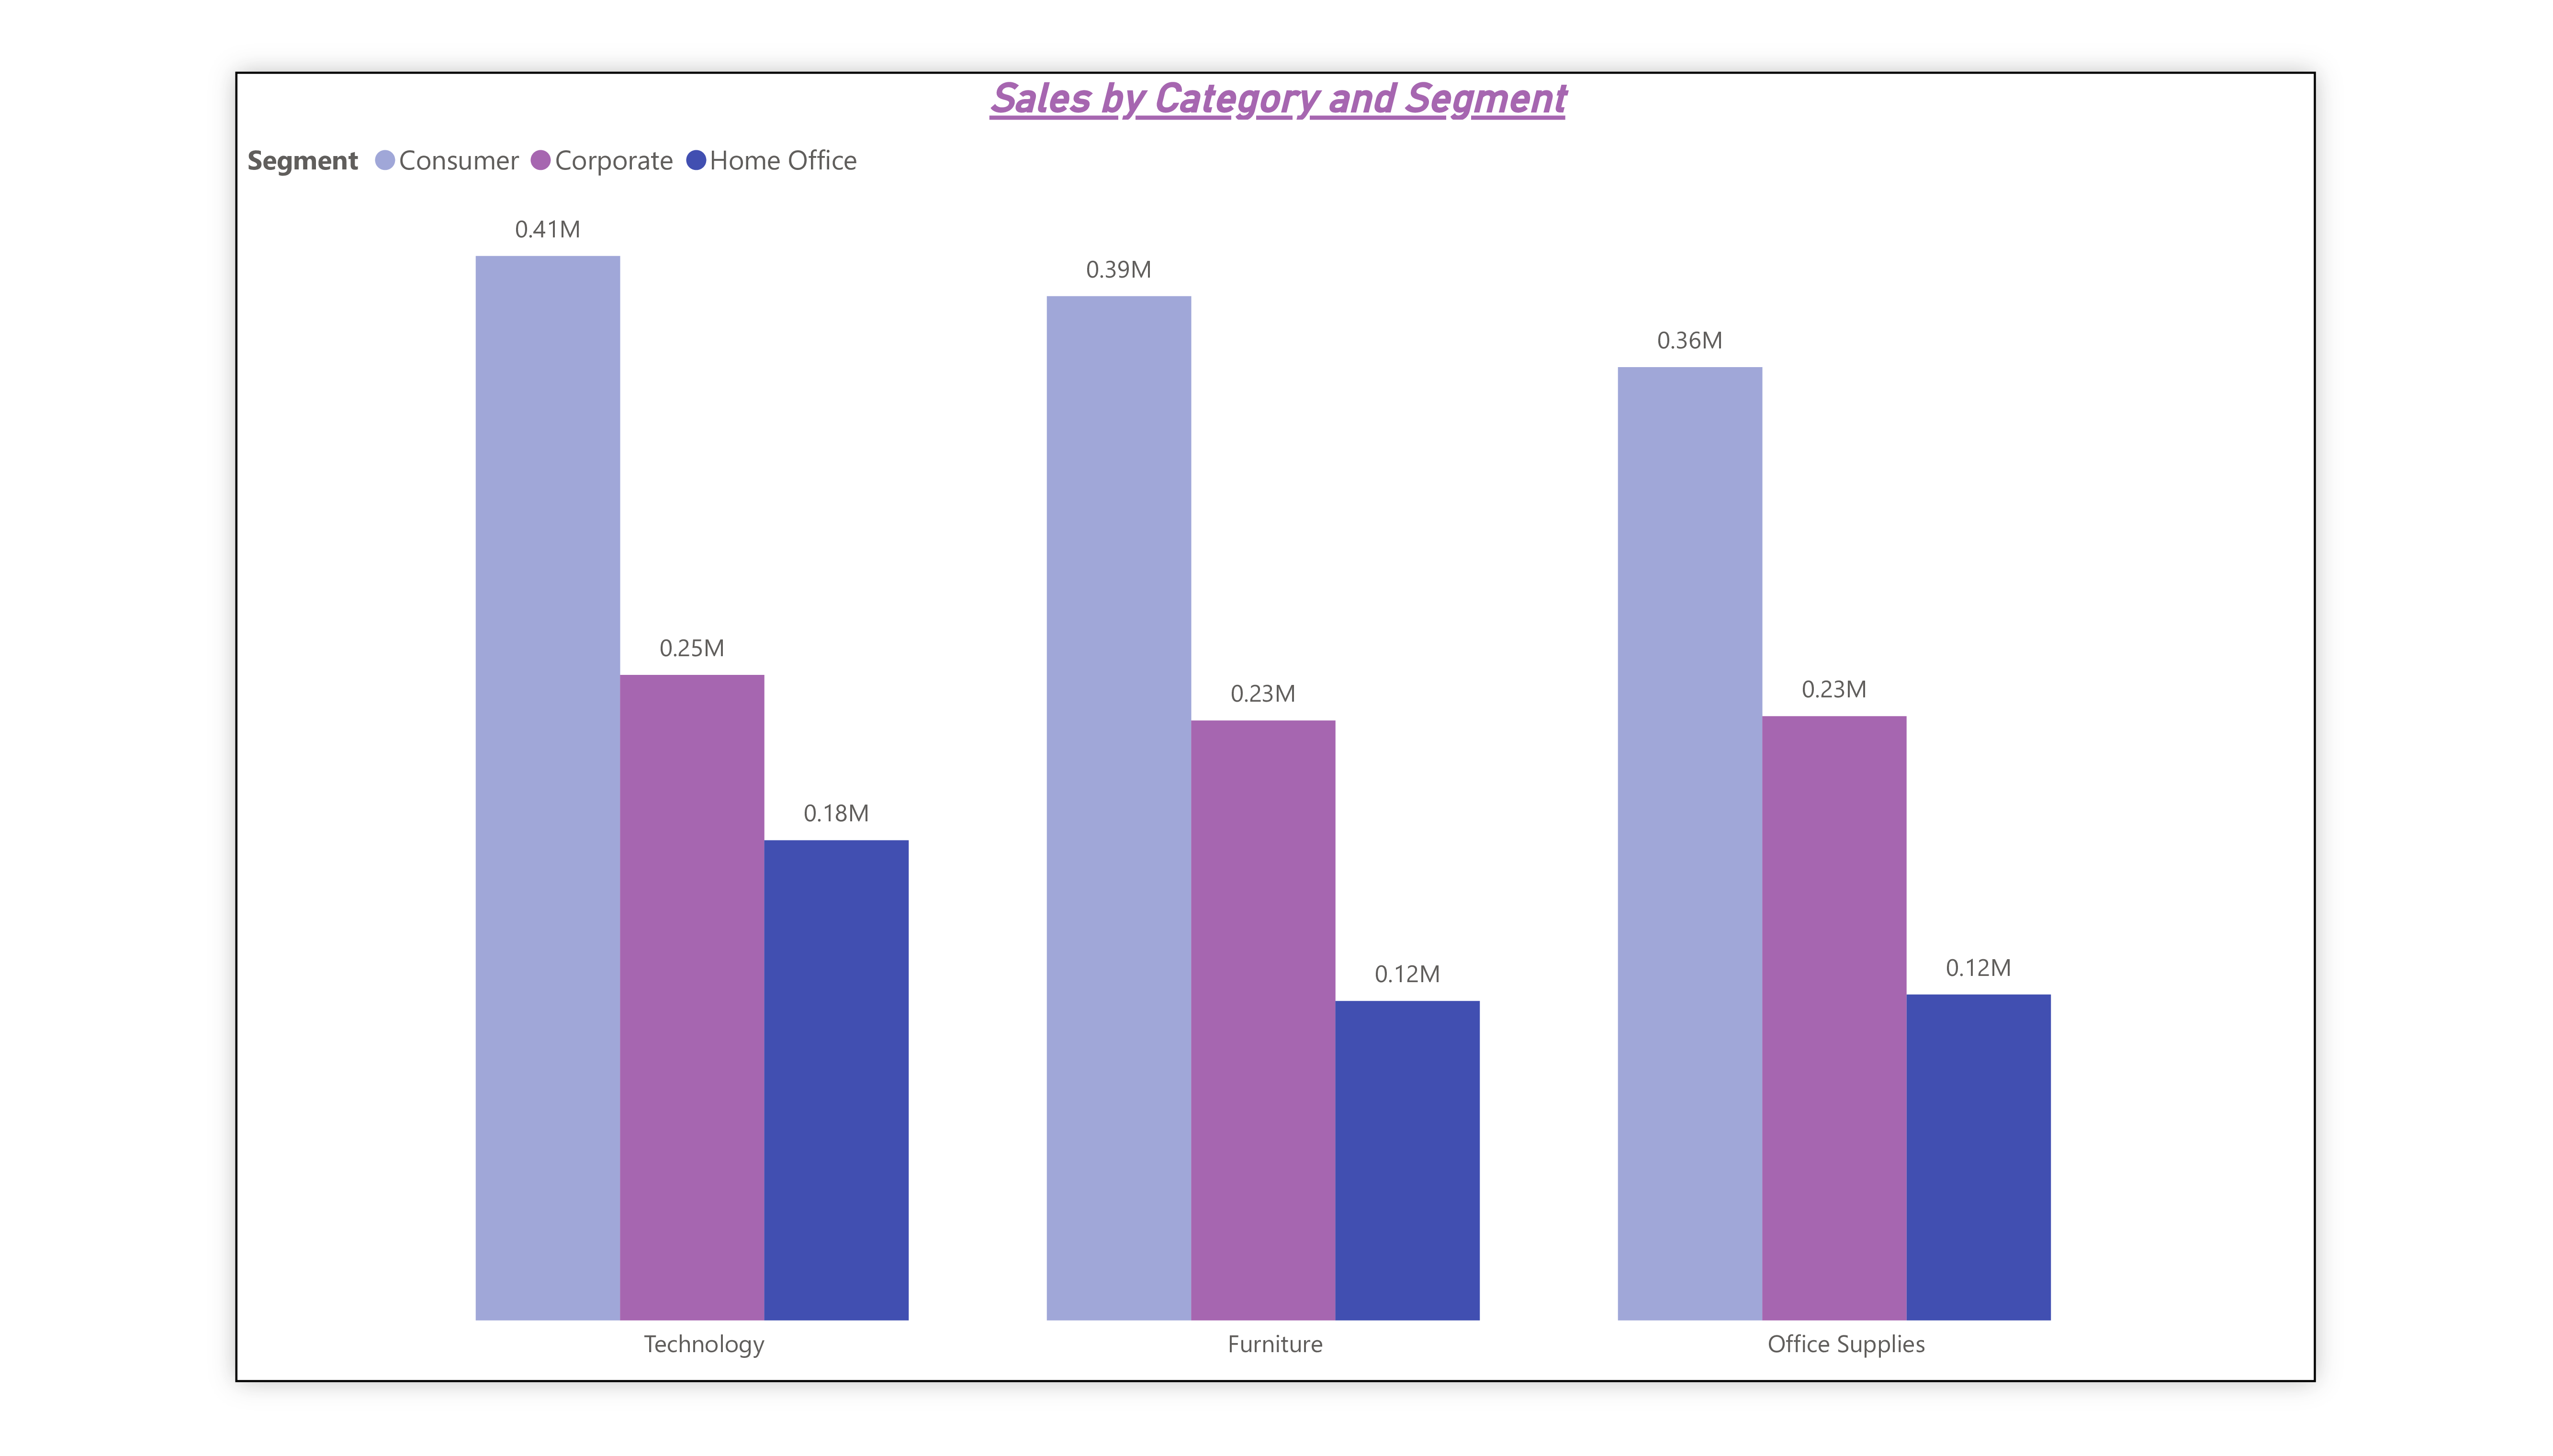

The dashboard page shown, as its layout file describes it:
{"tool":"powerbi","page":{"name":"Clustered Column Chart","canvas":[1280,720],"ordinal":3},"visuals":[{"type":"clusteredColumnChart","title":"Sales by Category and Segment","fields":{"Category":["Sheet1.Category"],"Y":["Sum(Sheet1.Sales)"],"Series":["Sheet1.Segment"]},"box":[118.2,30.8,1042.8,657.4],"z":0}]}

Visuals, with their boxes in screenshot pixels (x1, y1, x2, y2), scaled from the page's 1280x720 canvas onto the 2553x1456 screenshot:
"Sales by Category and Segment" clusteredColumnChart: pyautogui.locateOnScreen(236, 62, 2316, 1392)
